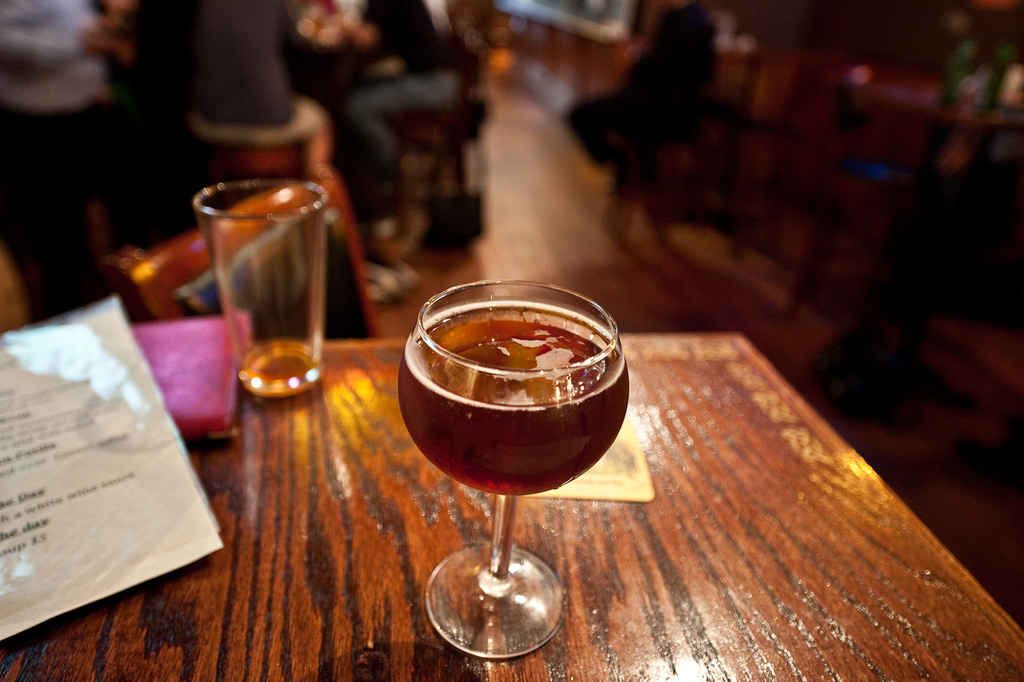Beer: (382, 281, 641, 670), (186, 159, 331, 426)
